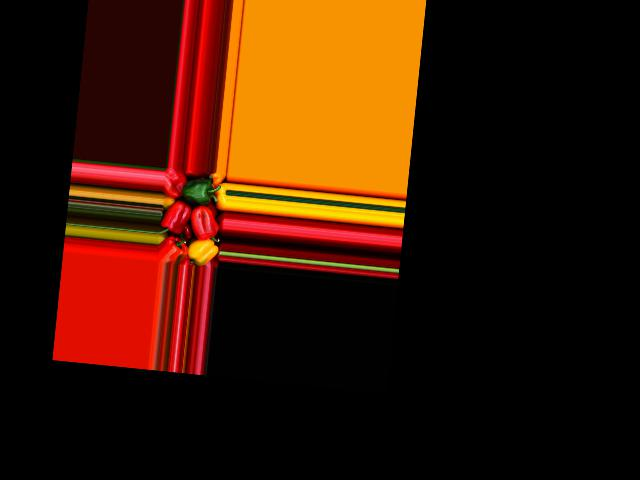bell_pepper: (184, 235, 221, 267)
